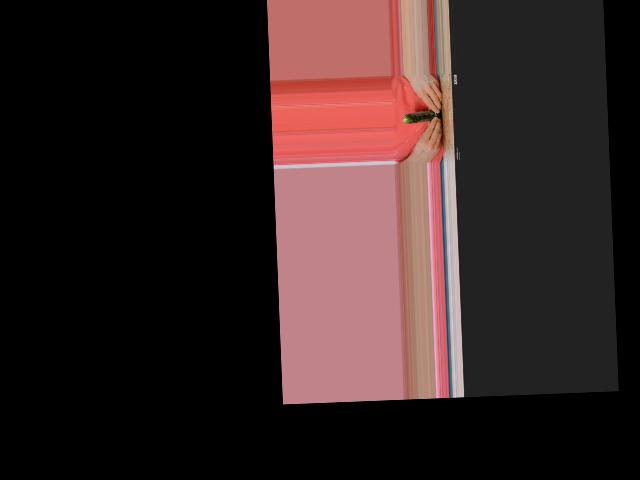cucumber: (403, 110, 442, 124)
